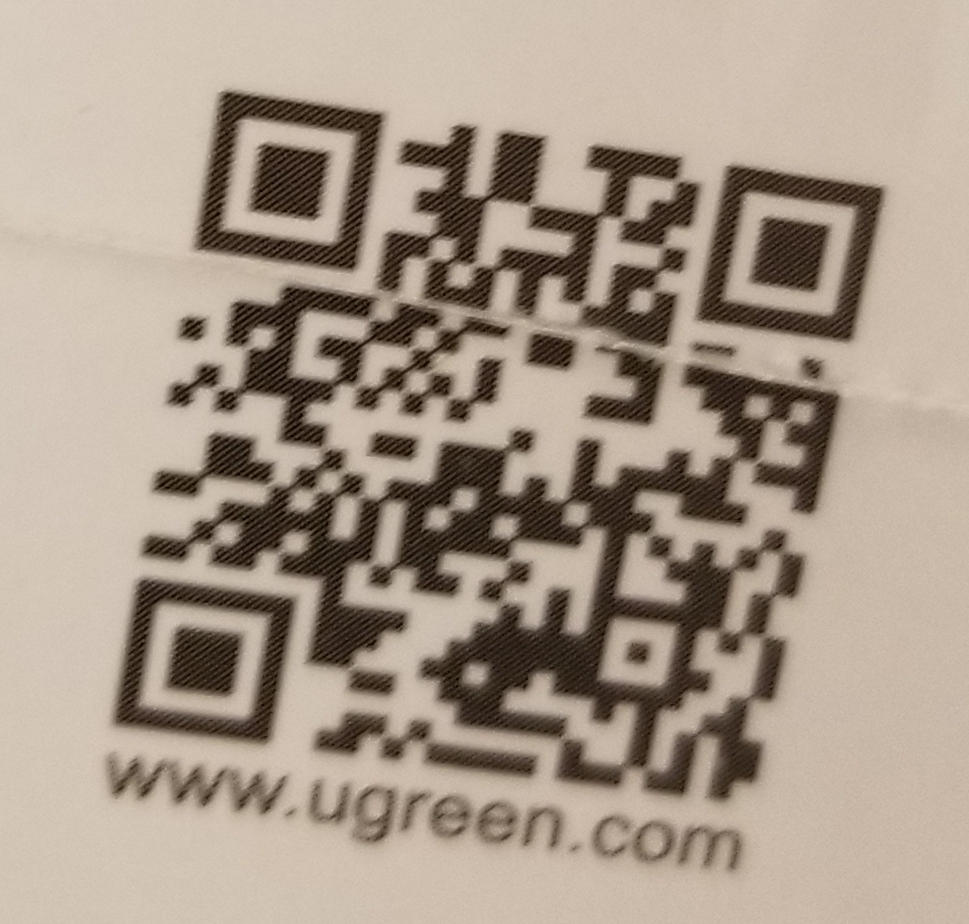QR_CODE: (96, 56, 907, 838)
